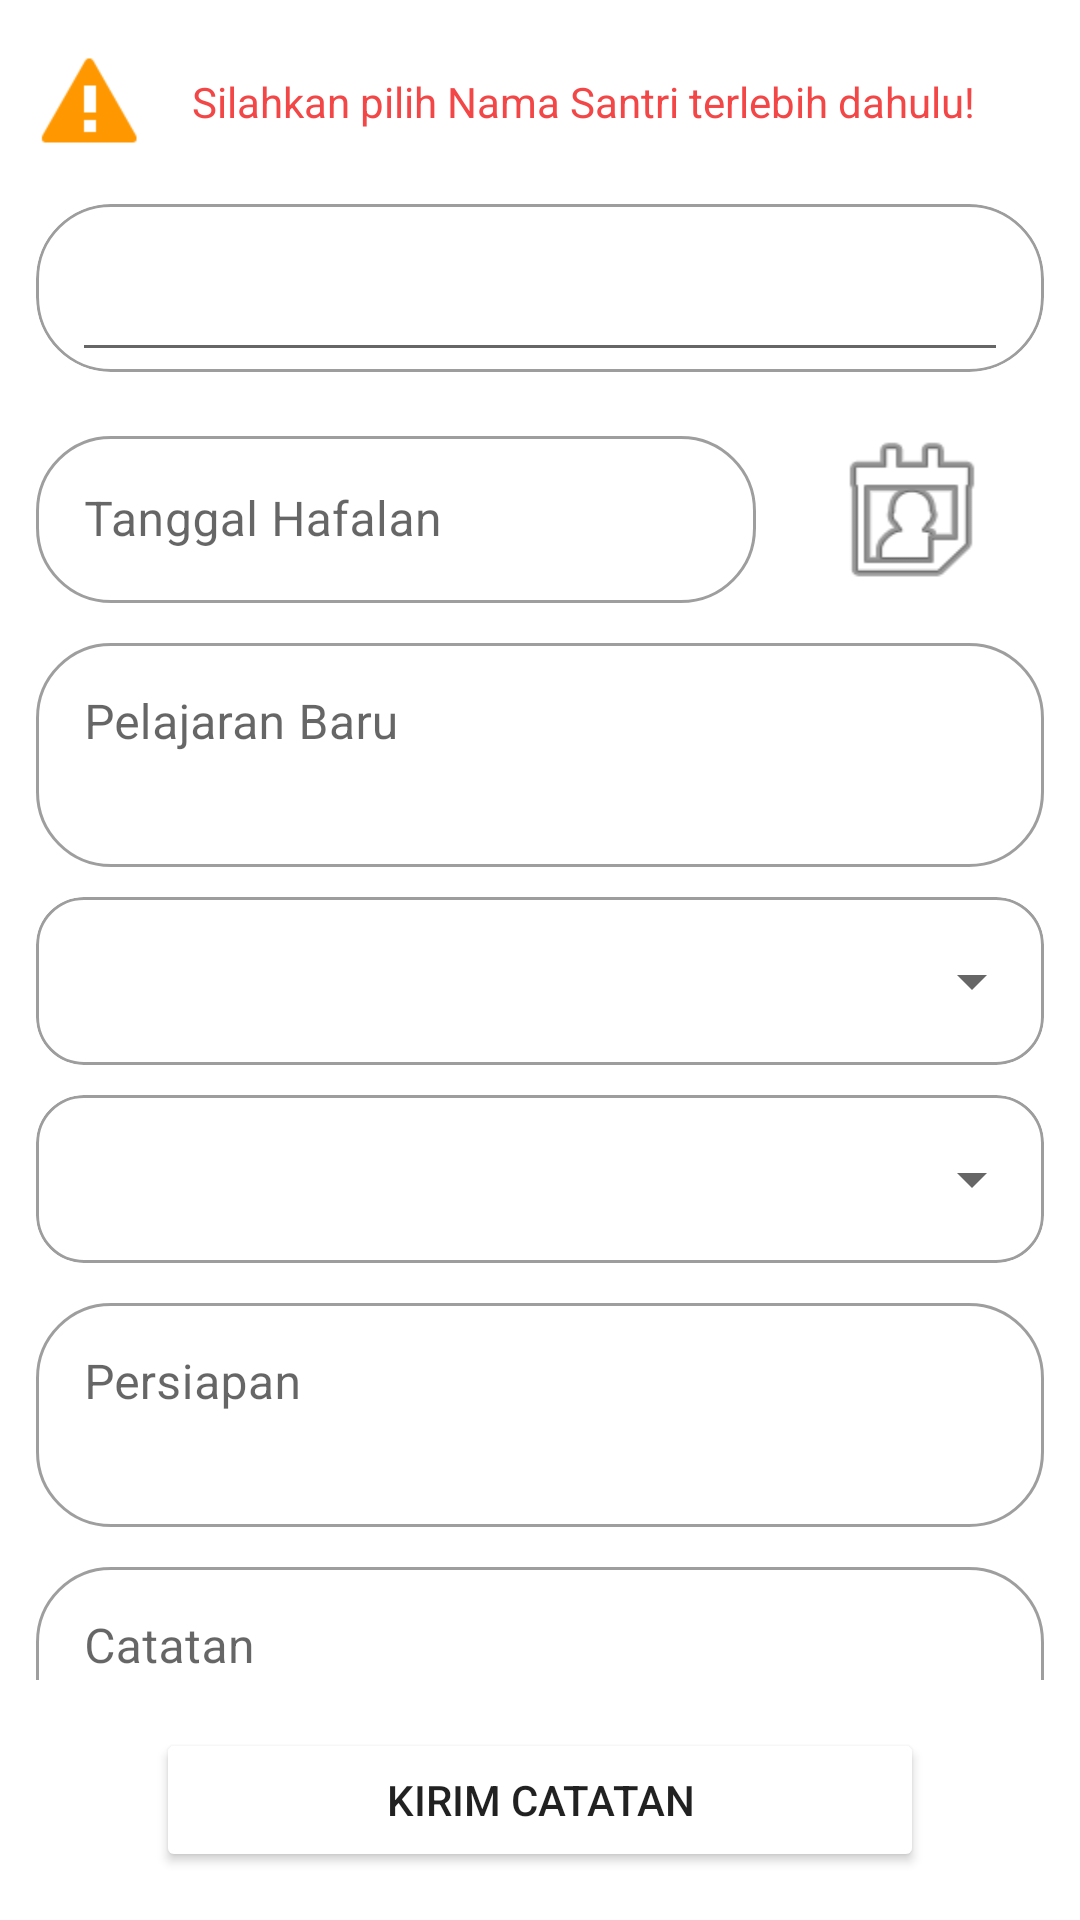

Icons on this 1080px x 1920px Android screen, each with the point to tap as (x=x, y=y):
calendar: (x=912, y=509)
warning: (x=89, y=100)
